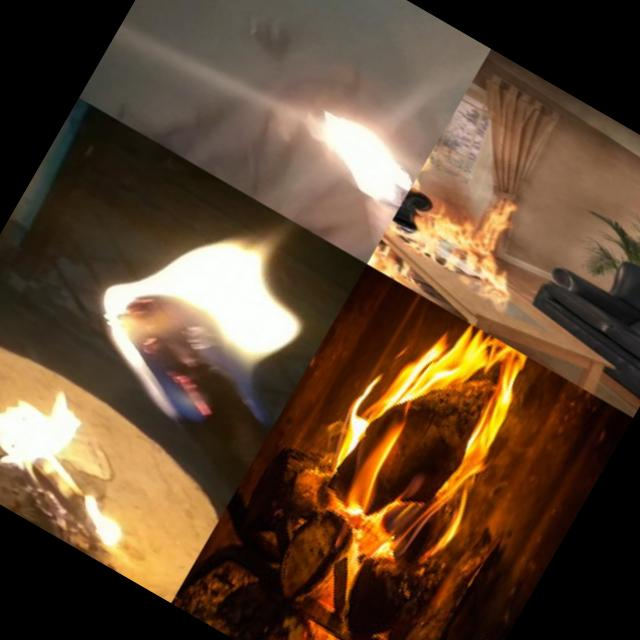fire: (54, 154, 362, 469), (268, 286, 562, 612), (367, 66, 588, 326), (0, 367, 179, 551), (251, 75, 435, 252)
